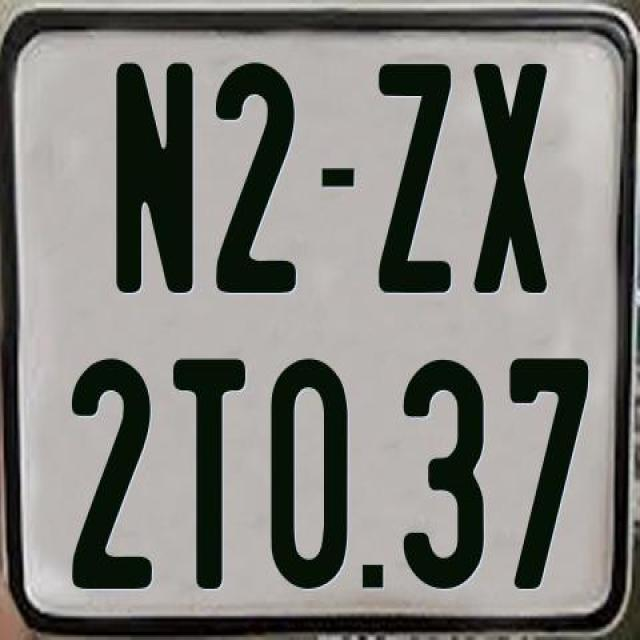0: (268, 358, 350, 589)
2: (72, 358, 152, 598), (213, 59, 295, 293)
3: (398, 360, 481, 590)
7: (509, 357, 591, 592)
N: (111, 62, 198, 296)
T: (170, 358, 242, 594)
X: (472, 60, 548, 298)
Z: (374, 61, 446, 293)
